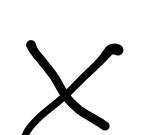mult: (22, 40, 123, 135)
